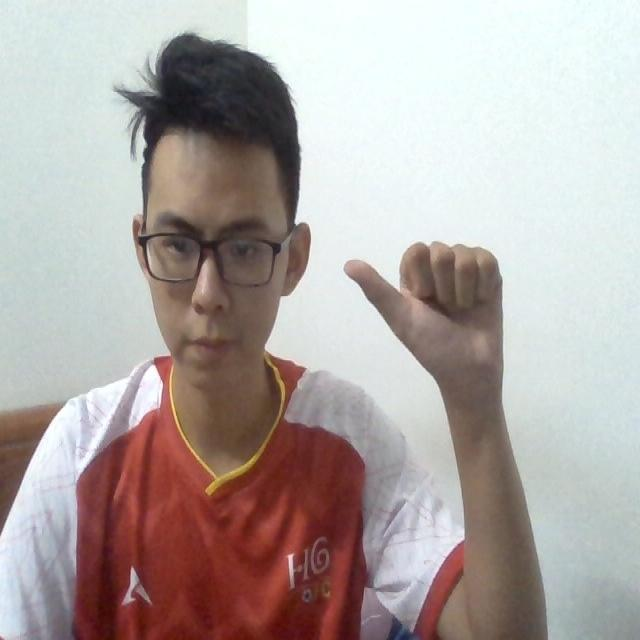A: (344, 233, 510, 386)
